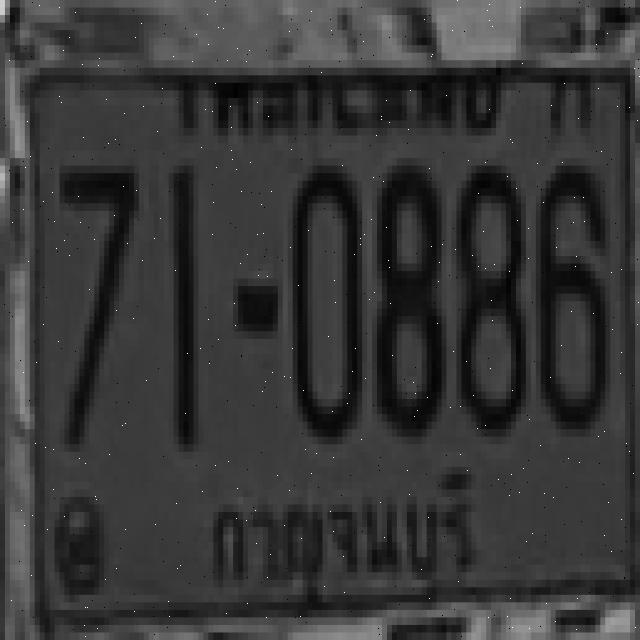0: (288, 158, 358, 436)
1: (168, 162, 194, 440)
6: (536, 158, 606, 422)
7: (56, 158, 136, 444), (54, 158, 134, 354)
8: (372, 158, 442, 429), (454, 158, 524, 429)
Kanchanaburi: (198, 461, 484, 600)
